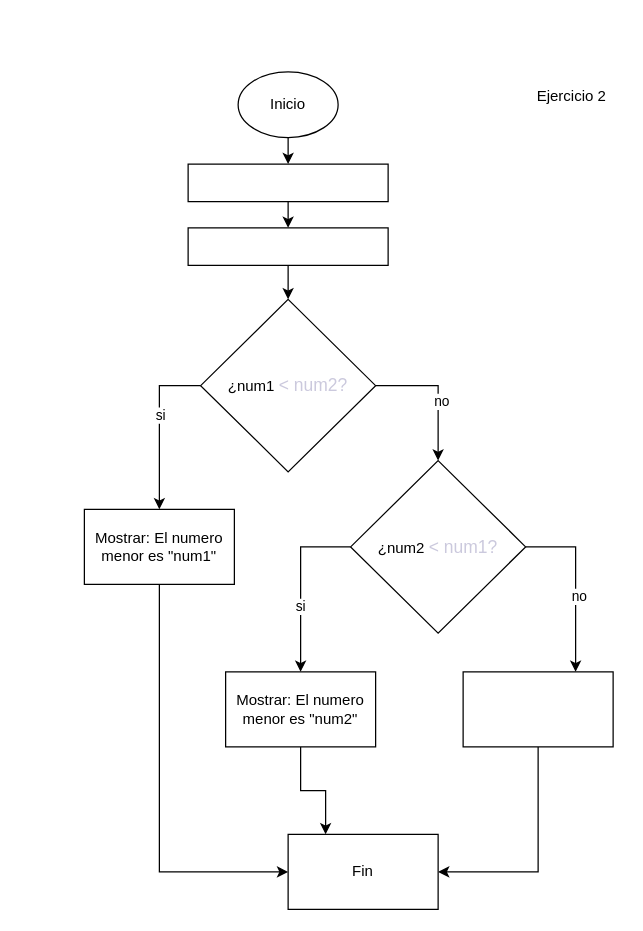
The diagram is 643 pixels wide and 931 high, and some of its shapes have lost their labels. The shapes that lost their labels are listed below. From the top down, each one's centre as x and y in pixels, then its label:
At point (287, 182): "ingresar num1".
At point (287, 246): "ingresar num2".
At point (537, 709): "Mostrar: Los 2 numeros son iguales".
